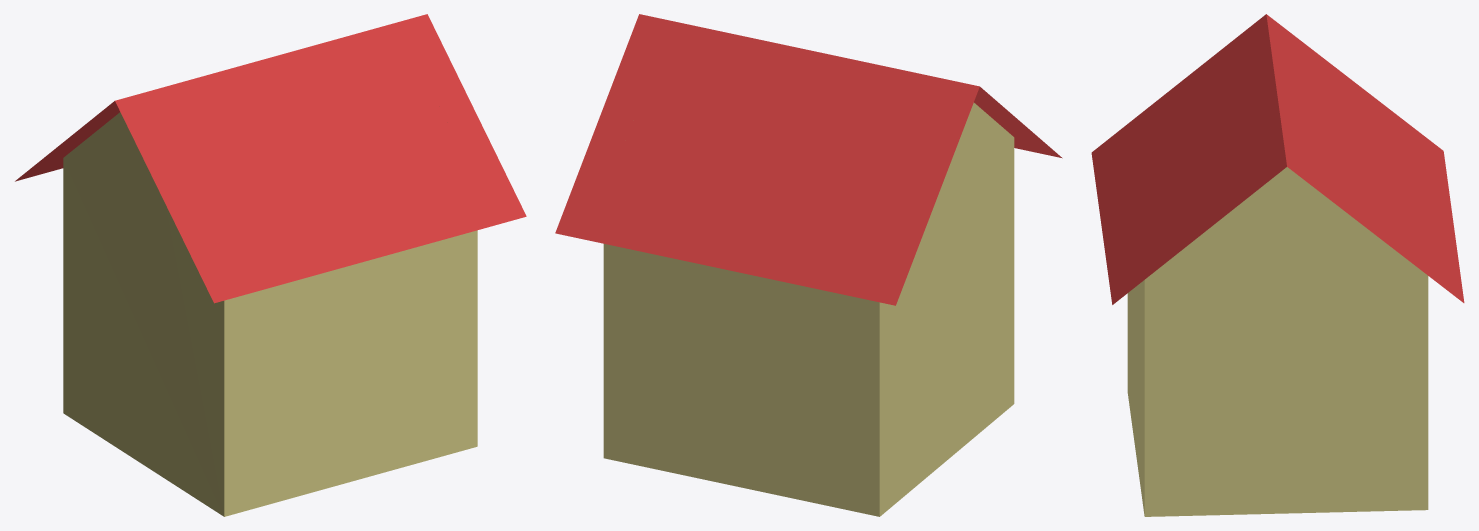
3 renders of one model, left to right at view 1: azimuth 30°, elevation 25°; view 2: azimuth 150°, elevation 25°; view 3: azimuth 270°, elevation 25°, orthographic. The views are drawn at different scales.
Size of the model in its own units: 11.11 by 10.85 by 11.6.
